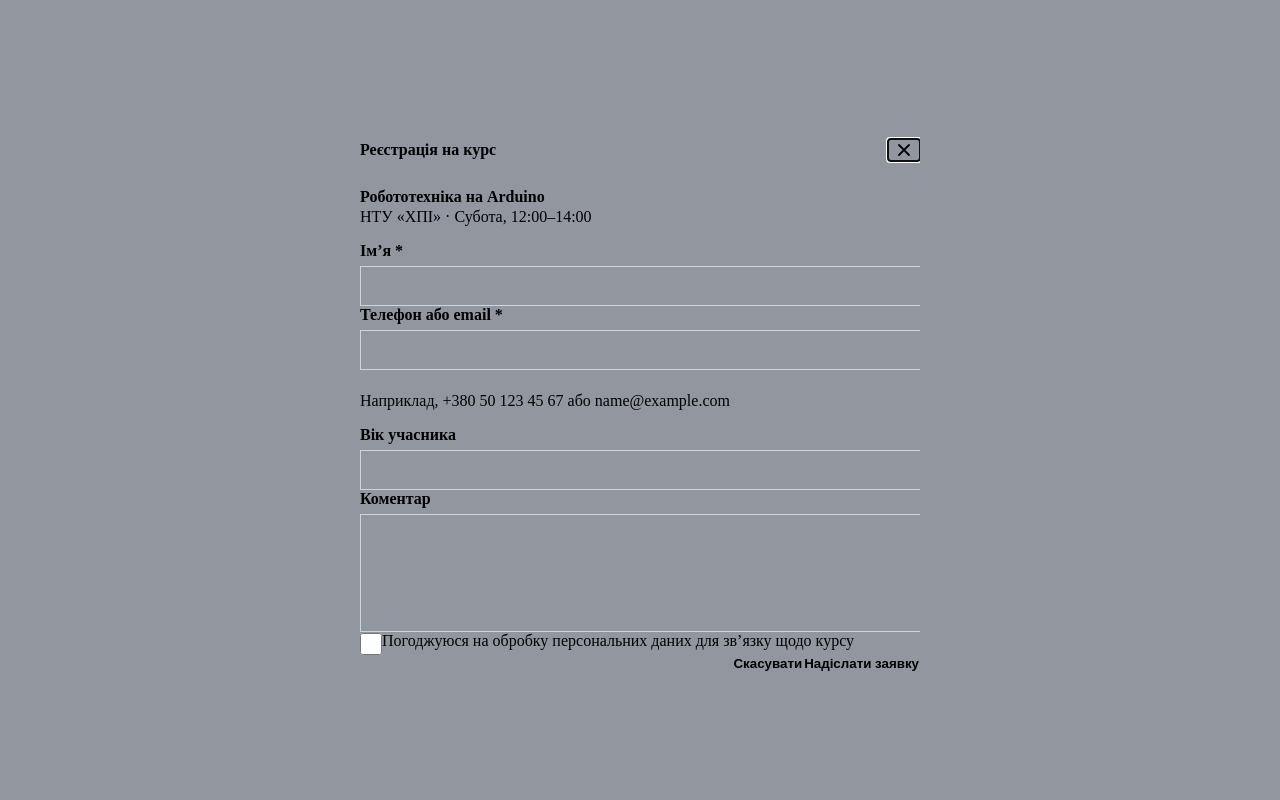
Test: RegistrationDialog › 409 — місця закінчились
What coordinates should you click on to do the following:
click the button "Надіслати заявку"
I would click on:
 (862, 664)
Its box is [803,655,920,672].
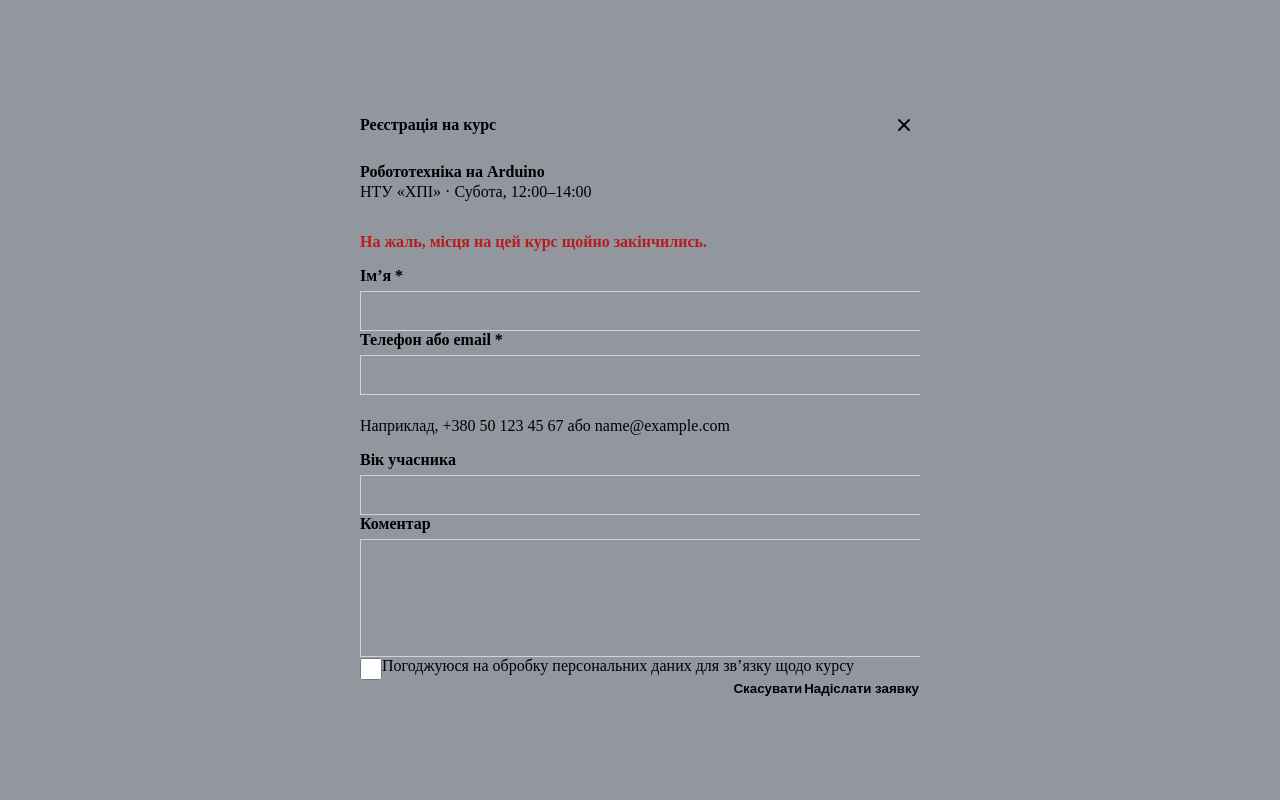
Expected: the text "На жаль, місця на цей курс щойно закінчились." is shown, [360,233,707,250]
